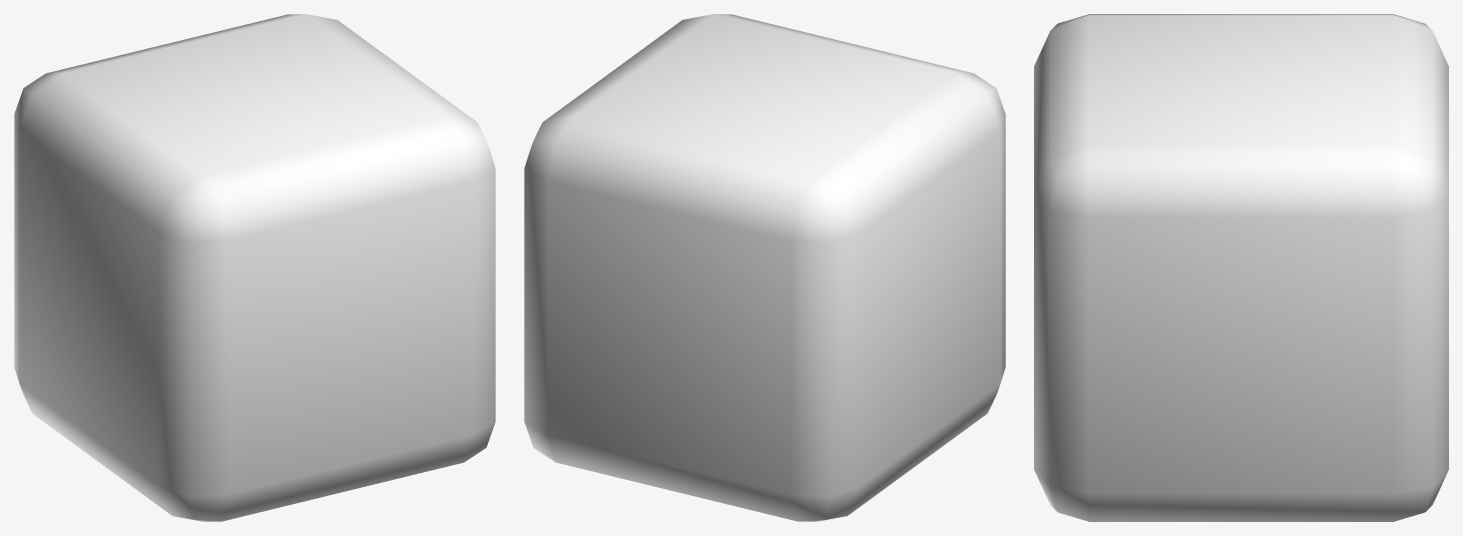
Rendered from PowerUpDie.fbx.
The picture shows the model from 3 angles, left to right: view 1: azimuth 30°, elevation 25°; view 2: azimuth 150°, elevation 25°; view 3: azimuth 270°, elevation 25°; orthographic projection. The views are drawn at different scales.
Parts seen in each view (by area): view 1: PowerUpDie; view 2: PowerUpDie; view 3: PowerUpDie.
Part boxes in pixels (box(x1,y1,x2,y2)): PowerUpDie: box(14, 14, 495, 521); PowerUpDie: box(524, 14, 1005, 521); PowerUpDie: box(1034, 14, 1448, 521).
Size of the model in its own units: 200 by 200 by 200.
